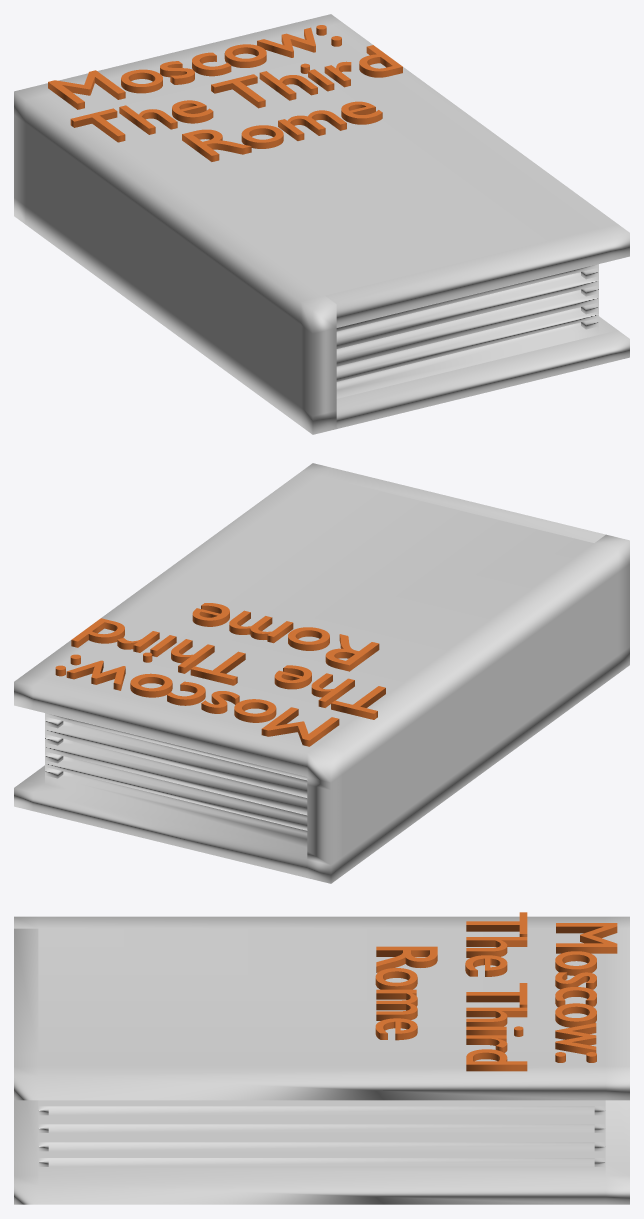
File: BookPropMoscow.fbx
The picture shows the model from 3 angles, top to bottom: view 1: azimuth 30°, elevation 25°; view 2: azimuth 150°, elevation 25°; view 3: azimuth 270°, elevation 25°; orthographic projection. The views are drawn at different scales.
Parts seen in each view (by area): view 1: Cube, Text; view 2: Cube, Text; view 3: Cube, Text.
Part boxes in pixels (x1,y1,x2,y2): Cube: (14,14,629,434); Text: (48,25,402,161); Cube: (14,463,629,883); Text: (55,603,385,746); Cube: (14,916,629,1204); Text: (375,912,617,1071).
Size of the model in its own units: 53.21 by 21.17 by 86.85.
